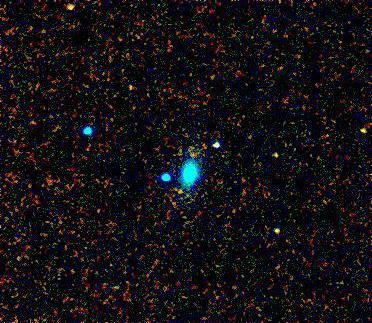star: (57, 0, 87, 24)
